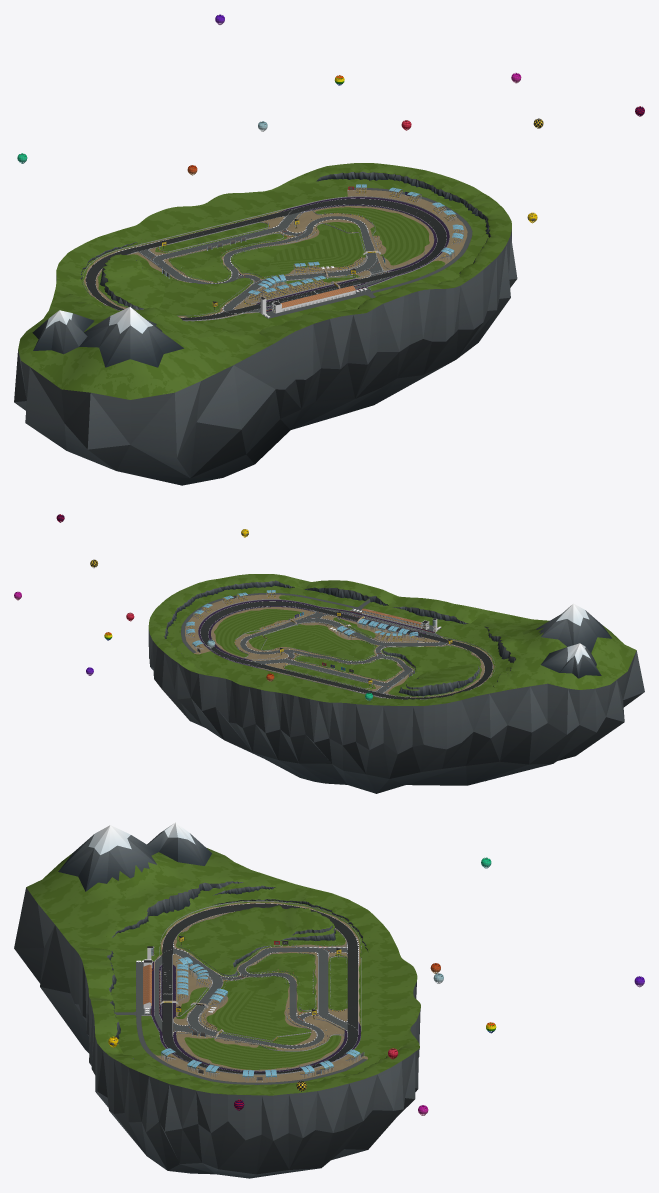
The model's file is oval.glb.
3 views of the same model, one above another, from view 1: azimuth 30°, elevation 25°; view 2: azimuth 150°, elevation 25°; view 3: azimuth 270°, elevation 25° (orthographic). The views are drawn at different scales.
Visible parts, largest first — view 1: rock_0, grass_1_0, road_0, gravel_0, grass_2_0, road_1, baloon_0, garages_3; view 2: rock_0, grass_1_0, road_0, gravel_0, grass_2_0, road_1, baloon_0, barriers_0; view 3: grass_1_0, rock_0, road_0, gravel_0, grass_2_0, road_1, baloon_0, white_line_0, barriers_0.
Part boxes in pixels (box(x1,y1,x2,y2)): rock_0: box(14, 171, 517, 485); grass_1_0: box(18, 163, 511, 399); road_0: box(85, 198, 446, 320); gravel_0: box(84, 189, 467, 320); grass_2_0: box(269, 207, 429, 274); road_1: box(116, 187, 472, 318); baloon_0: box(17, 14, 644, 223); garages_3: box(281, 285, 355, 311); rock_0: box(148, 580, 644, 793); grass_1_0: box(148, 574, 636, 705); road_0: box(200, 601, 492, 699); gravel_0: box(185, 594, 494, 697); grass_2_0: box(214, 609, 363, 657); road_1: box(181, 592, 456, 698); baloon_0: box(14, 514, 372, 701); barriers_0: box(211, 606, 482, 696); grass_1_0: box(26, 848, 420, 1095); rock_0: box(14, 822, 420, 1178); road_0: box(162, 903, 358, 1074); gravel_0: box(154, 902, 367, 1082); grass_2_0: box(184, 990, 341, 1069); road_1: box(115, 937, 367, 1084); baloon_0: box(108, 857, 644, 1115); white_line_0: box(154, 903, 358, 1071); barriers_0: box(176, 914, 345, 1071).
Size of the model in its own units: 1138 by 397 by 902.
Materials: 14 (11 with a texture image).
